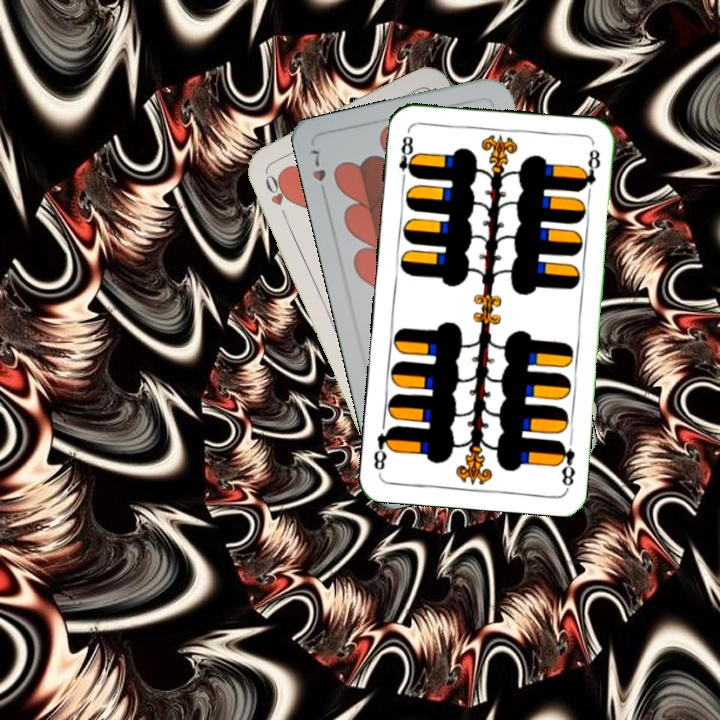E8: (395, 127, 419, 186), (553, 436, 578, 490)
H7: (305, 145, 330, 201)
HO: (260, 164, 290, 221)
